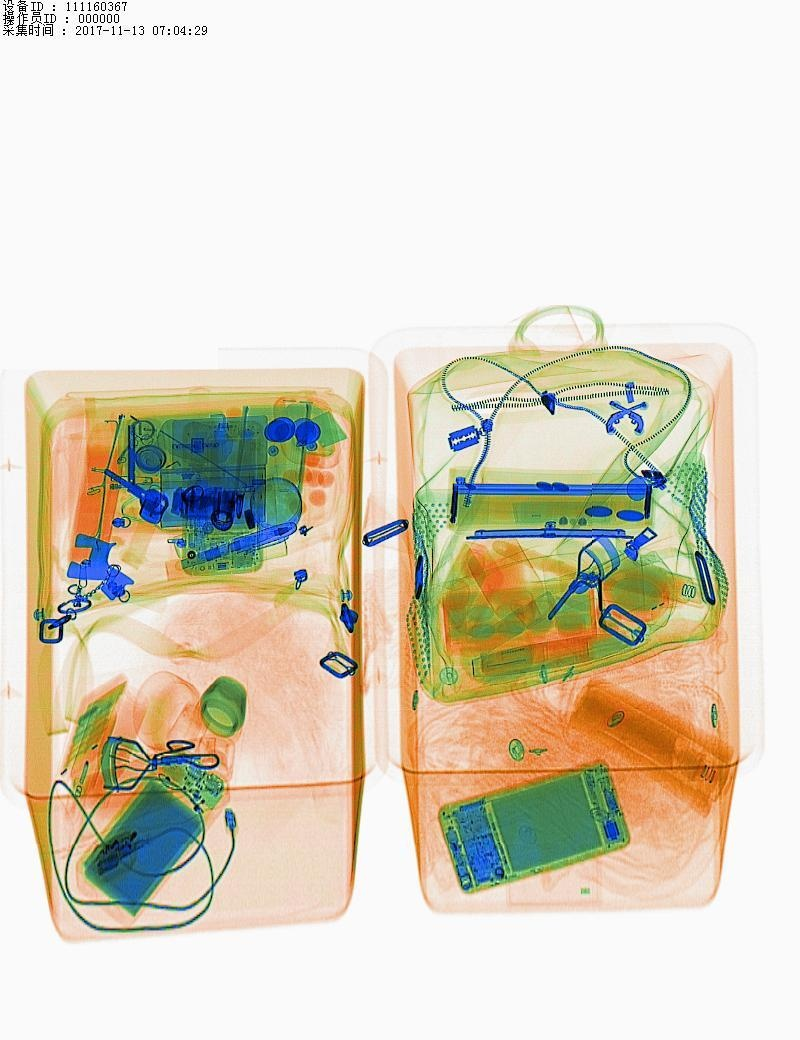coreless: (77, 762, 221, 908)
